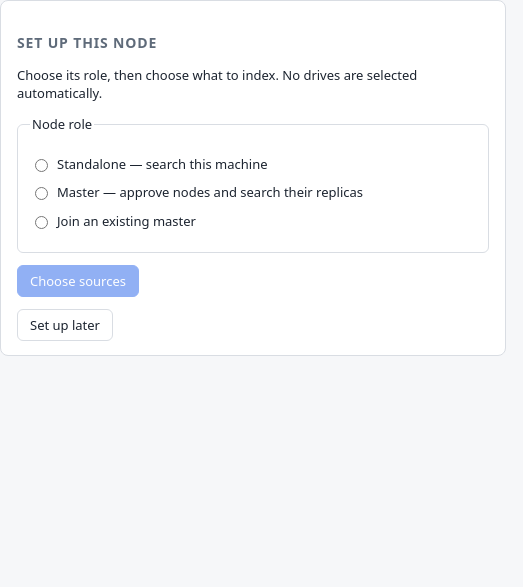
scan startup failure retries the created source ID without recreating it
Click the radio button labelled "Standalone — search this machine" at (42, 166), box [35, 159, 48, 172]
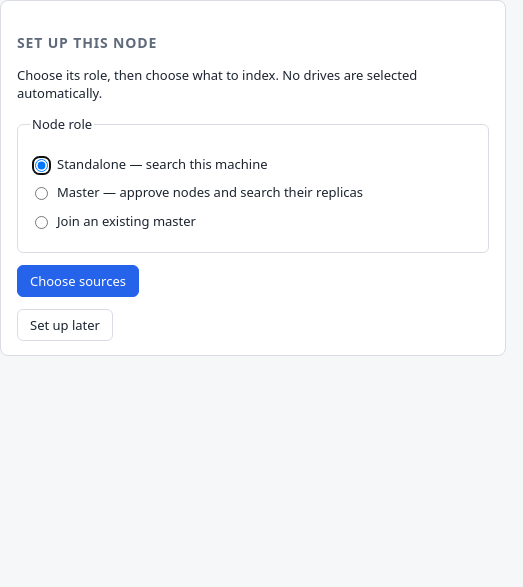
Click the button "Choose sources" at (78, 281), box [17, 265, 139, 297]
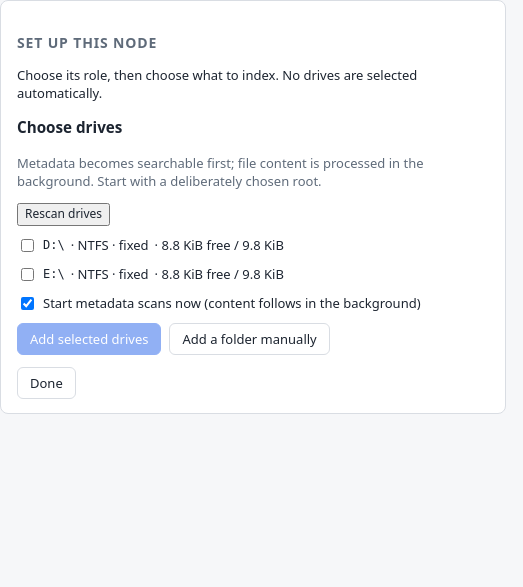
Expected: the heading "Choose drives" is shown, [17, 117, 122, 137]
Click the checkbox named "Index D:\\" at (28, 245), box [21, 239, 34, 252]
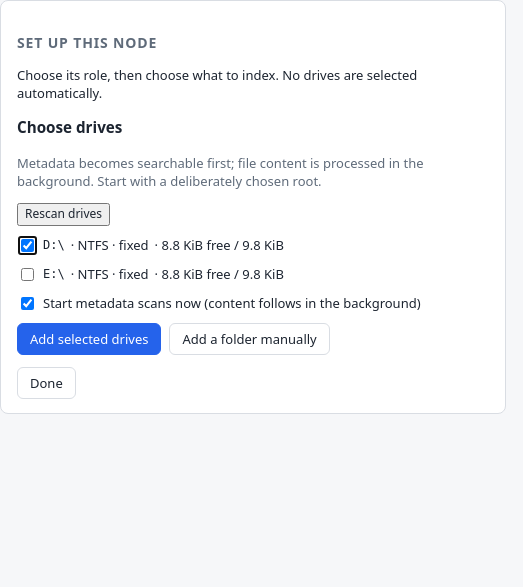
Click the button "Add selected drives" at (89, 339), box [17, 323, 162, 355]
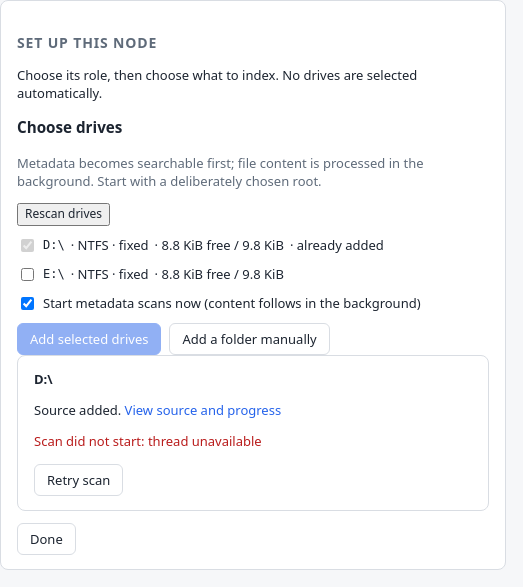
Expected: the text "Scan did not start: thread unavailable" is shown, [34, 432, 262, 450]
Click the button "Retry scan" at (79, 480), box [34, 464, 123, 496]
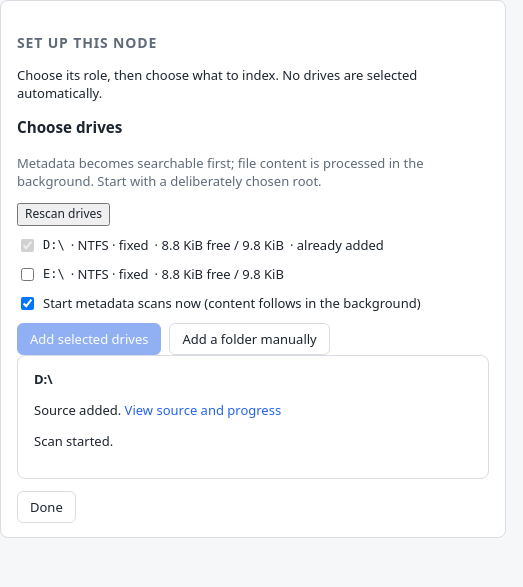
Expected: the text "Scan started." is shown, [34, 432, 113, 450]
